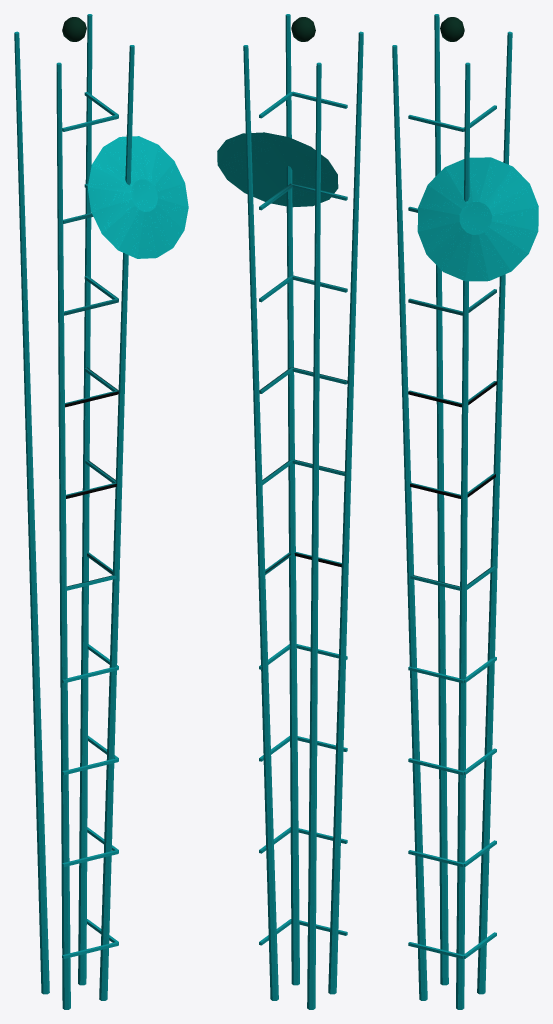
Rendered from mast.glb.
3 renders of one model, left to right at view 1: azimuth 30°, elevation 25°; view 2: azimuth 150°, elevation 25°; view 3: azimuth 330°, elevation 25°, orthographic.
Visible parts, largest first — view 1: mast; view 2: mast; view 3: mast.
Boxes of the visible parts, x1=… form: mast: x1=14, y1=14, x2=188, y2=1009; mast: x1=217, y1=14, x2=363, y2=1009; mast: x1=392, y1=14, x2=538, y2=1009.
Size of the model in its own units: 0.748 by 5.11 by 0.553.
1 material, 1 textured.
